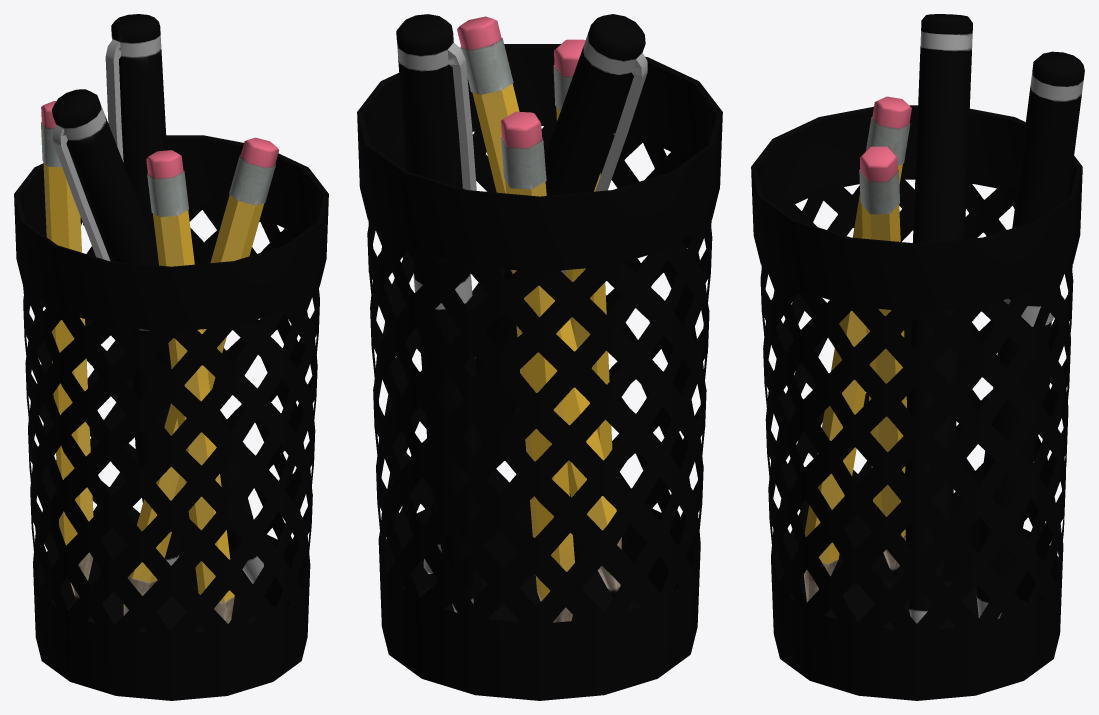
File: PenHolder.fbx
The picture shows the model from 3 angles, left to right: view 1: azimuth 30°, elevation 25°; view 2: azimuth 150°, elevation 25°; view 3: azimuth 270°, elevation 25°; orthographic projection. The views are drawn at different scales.
Parts seen in each view (by area): view 1: Pencil_holder, pen1, pen, Pencil2, Pencil1, Pencil; view 2: Pencil_holder, pen, pen1, Pencil1, Pencil, Pencil2; view 3: Pencil_holder, pen1, pen, Pencil1, Pencil2.
Boxes of the visible parts, x1,y1,x2,y2 form: Pencil_holder: (14, 135, 328, 700); pen1: (52, 89, 263, 583); pen: (105, 14, 179, 565); Pencil2: (146, 150, 234, 623); Pencil1: (123, 137, 279, 615); Pencil: (41, 101, 93, 601); Pencil_holder: (357, 44, 722, 700); pen: (396, 14, 482, 612); pen1: (423, 14, 647, 573); Pencil1: (457, 16, 621, 597); Pencil: (500, 111, 574, 622); Pencil2: (553, 39, 612, 459); Pencil_holder: (751, 105, 1082, 700); pen1: (905, 14, 972, 623); pen: (976, 51, 1084, 618); Pencil1: (859, 146, 906, 579); Pencil2: (803, 96, 911, 602).
Size of the model in its own units: 0.00613 by 0.0122 by 0.0062.
3 materials, 3 textured.
